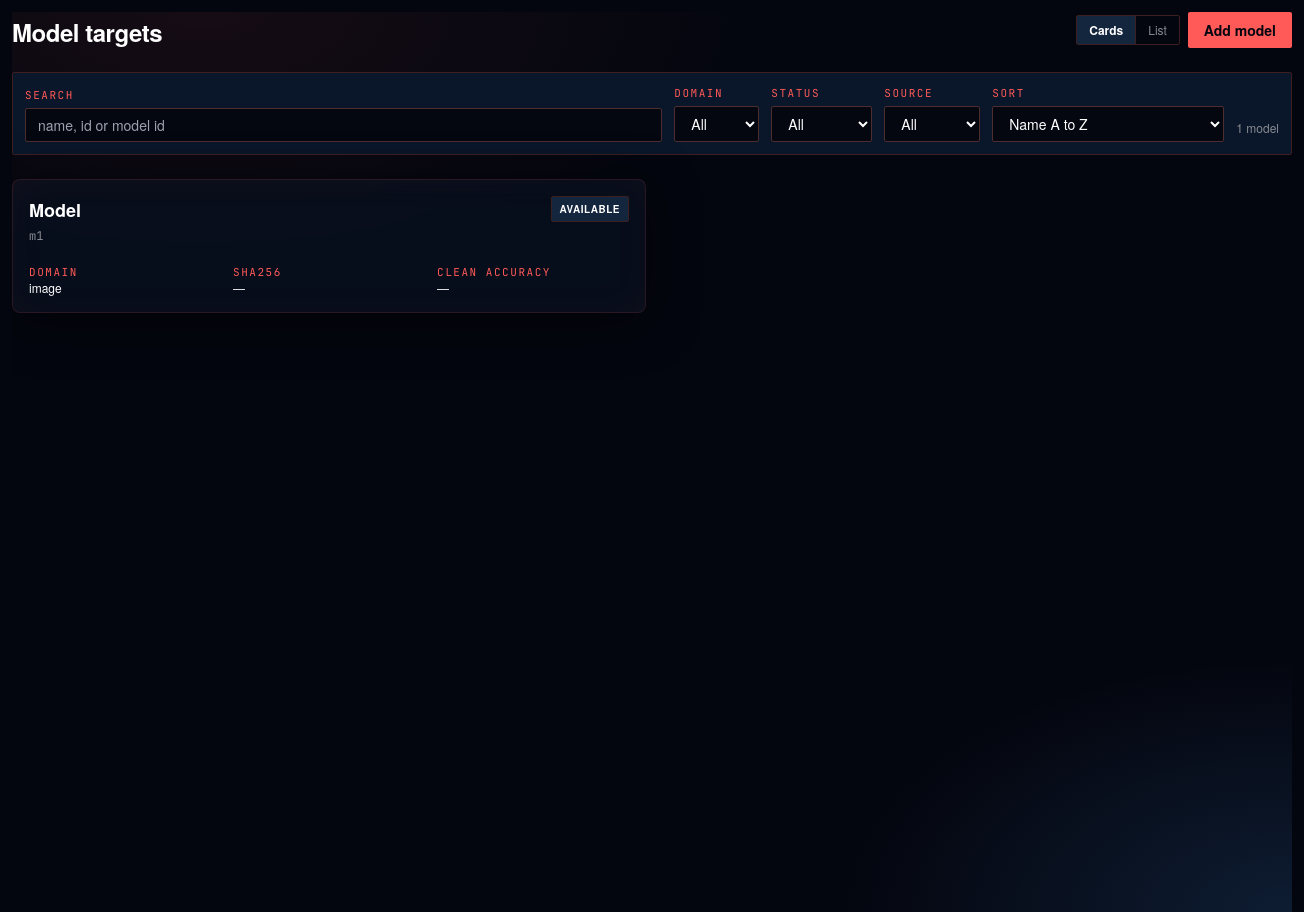
Test: /models › switches to a list view and remembers the choice
The image size is (1304, 912).
Click the button "List" at [1157, 30], box [1135,16,1179,44]
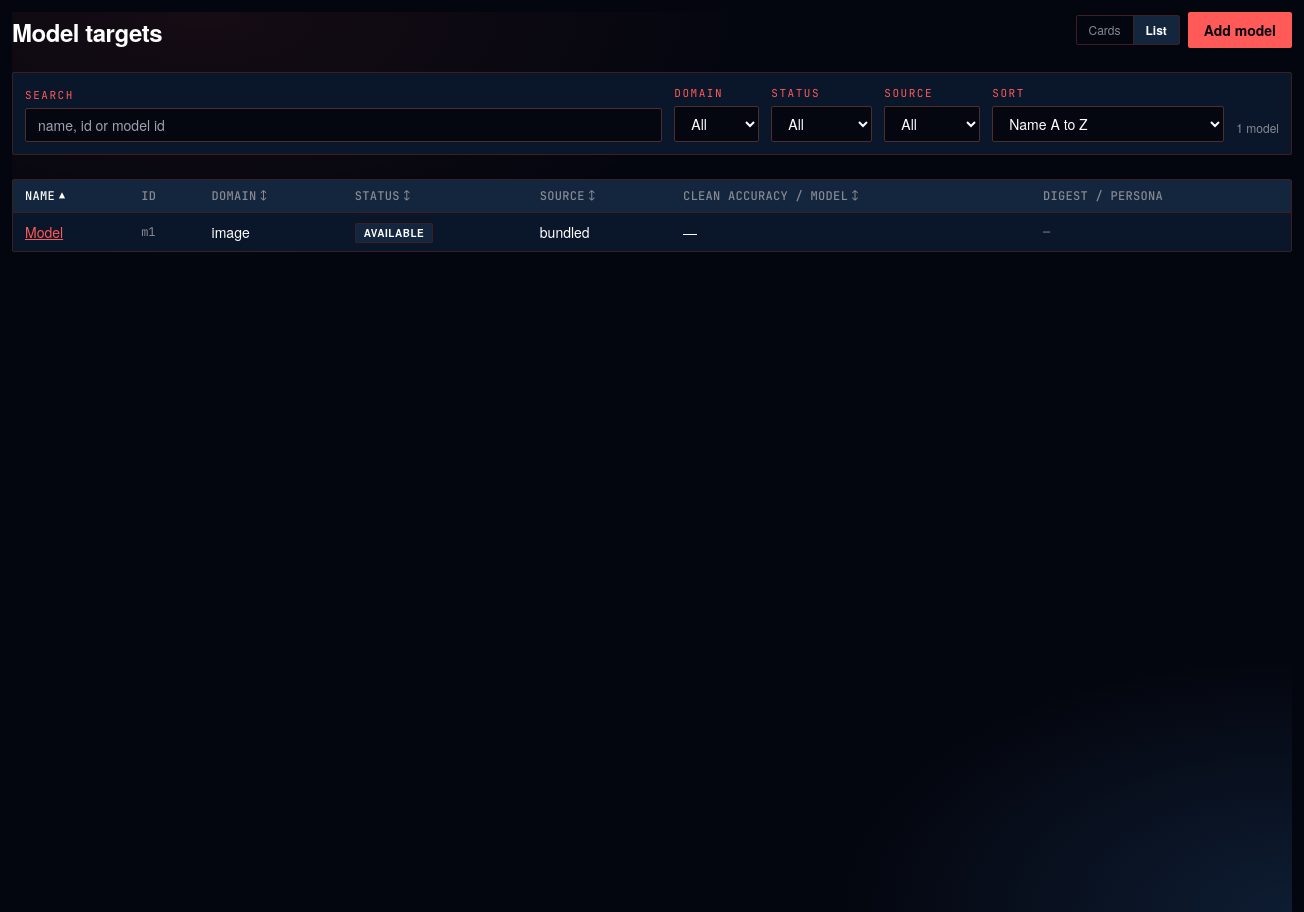
Expected: the table shows "model", [25,222,63,242]
Click the button "Cards" at [1104, 30], box [1076,16,1132,44]
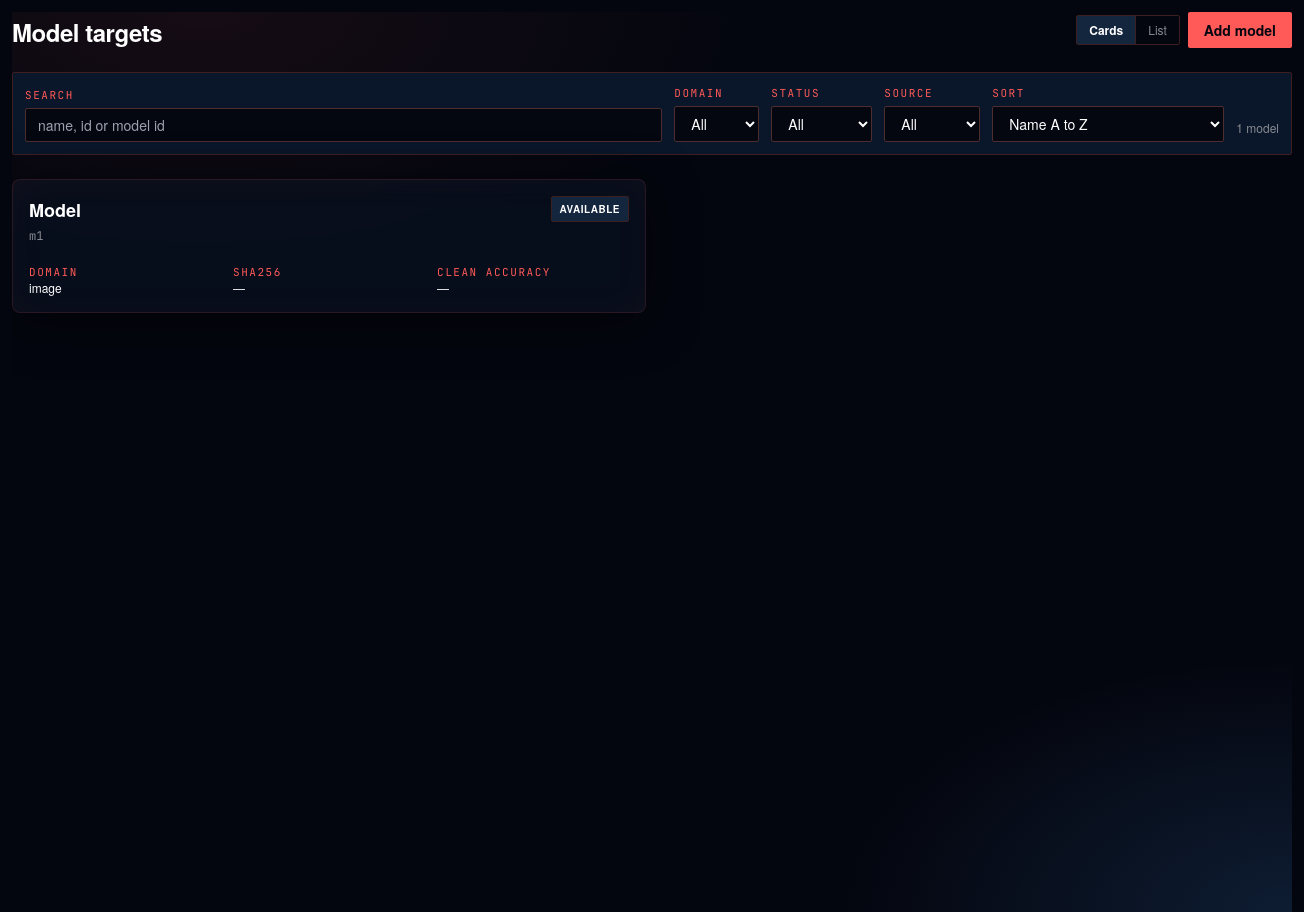
Expected: the table is gone
